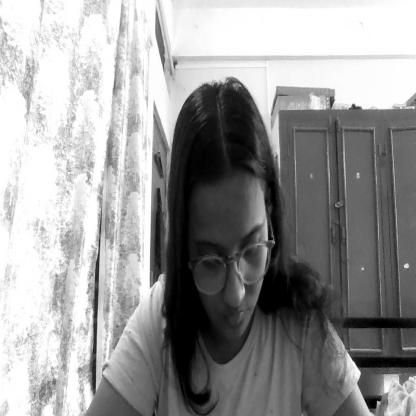Distracted: (171, 89, 278, 346)
